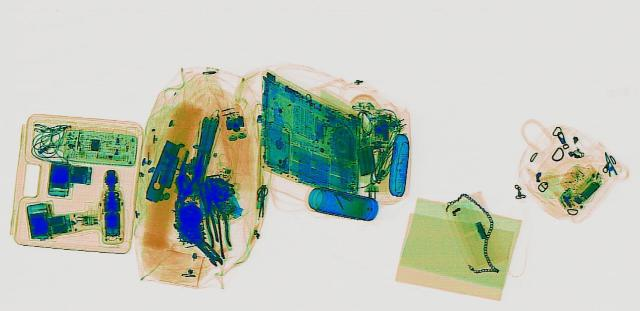Pliers: (194, 182, 232, 245)
Wrench: (187, 234, 226, 264)
